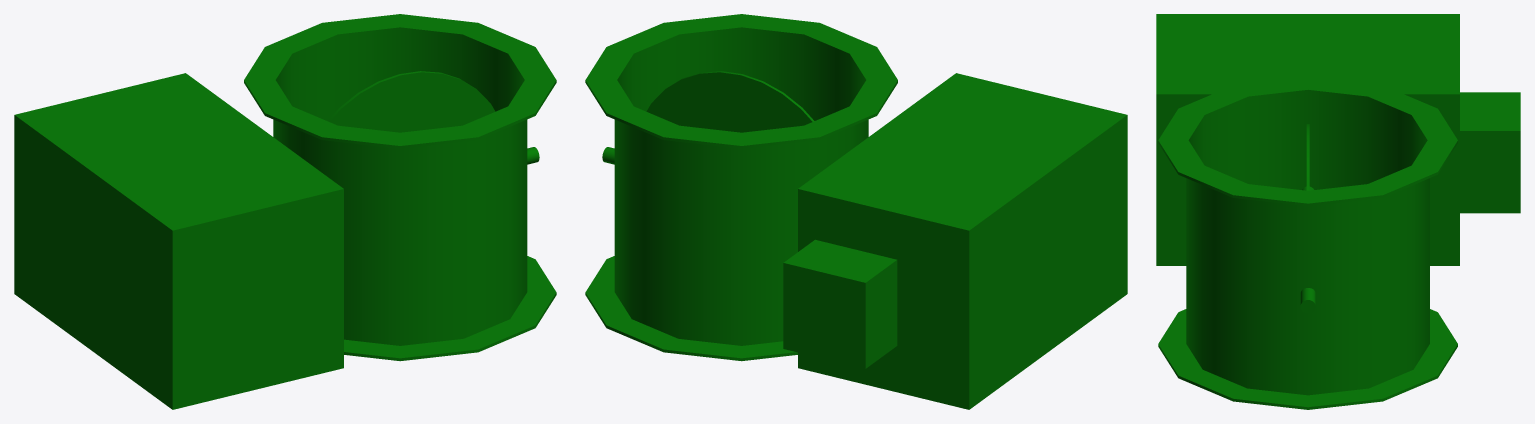
Rendered from Image-1710907700830-2280725600608_77-GS82_H.fbx.
3 renders of one model, left to right at view 1: azimuth 30°, elevation 25°; view 2: azimuth 150°, elevation 25°; view 3: azimuth 270°, elevation 25°, orthographic. The views are drawn at different scales.
Parts seen in each view (by area): view 1: BOX 1 of EQUIPMENT /77-GS82_H, CYLINDER 1 of EQUIPMENT /77-GS82_H, CYLINDER 5 of EQUIPMENT /77-GS82_H, CYLINDER 3 of EQUIPMENT /77-GS82_H, CYLINDER 4 of EQUIPMENT /77-GS82_H; view 2: BOX 1 of EQUIPMENT /77-GS82_H, CYLINDER 1 of EQUIPMENT /77-GS82_H, CYLINDER 5 of EQUIPMENT /77-GS82_H, BOX 2 of EQUIPMENT /77-GS82_H, CYLINDER 3 of EQUIPMENT /77-GS82_H, CYLINDER 4 of EQUIPMENT /77-GS82_H; view 3: CYLINDER 1 of EQUIPMENT /77-GS82_H, BOX 1 of EQUIPMENT /77-GS82_H, CYLINDER 5 of EQUIPMENT /77-GS82_H, BOX 2 of EQUIPMENT /77-GS82_H, CYLINDER 4 of EQUIPMENT /77-GS82_H, CYLINDER 2 of EQUIPMENT /77-GS82_H.
Boxes of the visible parts, box(x1,y1,x2,y2) form: BOX 1 of EQUIPMENT /77-GS82_H: box(14, 73, 343, 409); CYLINDER 1 of EQUIPMENT /77-GS82_H: box(273, 30, 527, 345); CYLINDER 5 of EQUIPMENT /77-GS82_H: box(244, 14, 556, 148); CYLINDER 3 of EQUIPMENT /77-GS82_H: box(327, 71, 495, 132); CYLINDER 4 of EQUIPMENT /77-GS82_H: box(344, 256, 556, 361); BOX 1 of EQUIPMENT /77-GS82_H: box(798, 73, 1127, 409); CYLINDER 1 of EQUIPMENT /77-GS82_H: box(614, 30, 868, 345); CYLINDER 5 of EQUIPMENT /77-GS82_H: box(585, 14, 897, 148); BOX 2 of EQUIPMENT /77-GS82_H: box(783, 239, 897, 368); CYLINDER 3 of EQUIPMENT /77-GS82_H: box(646, 71, 814, 132); CYLINDER 4 of EQUIPMENT /77-GS82_H: box(585, 256, 797, 361); CYLINDER 1 of EQUIPMENT /77-GS82_H: box(1186, 92, 1429, 395); BOX 1 of EQUIPMENT /77-GS82_H: box(1156, 14, 1459, 265); CYLINDER 5 of EQUIPMENT /77-GS82_H: box(1158, 77, 1457, 206); BOX 2 of EQUIPMENT /77-GS82_H: box(1460, 92, 1520, 213); CYLINDER 4 of EQUIPMENT /77-GS82_H: box(1158, 309, 1457, 409); CYLINDER 2 of EQUIPMENT /77-GS82_H: box(1300, 186, 1315, 313).
Size of the model in its own units: 0.645 by 0.48 by 0.315.
